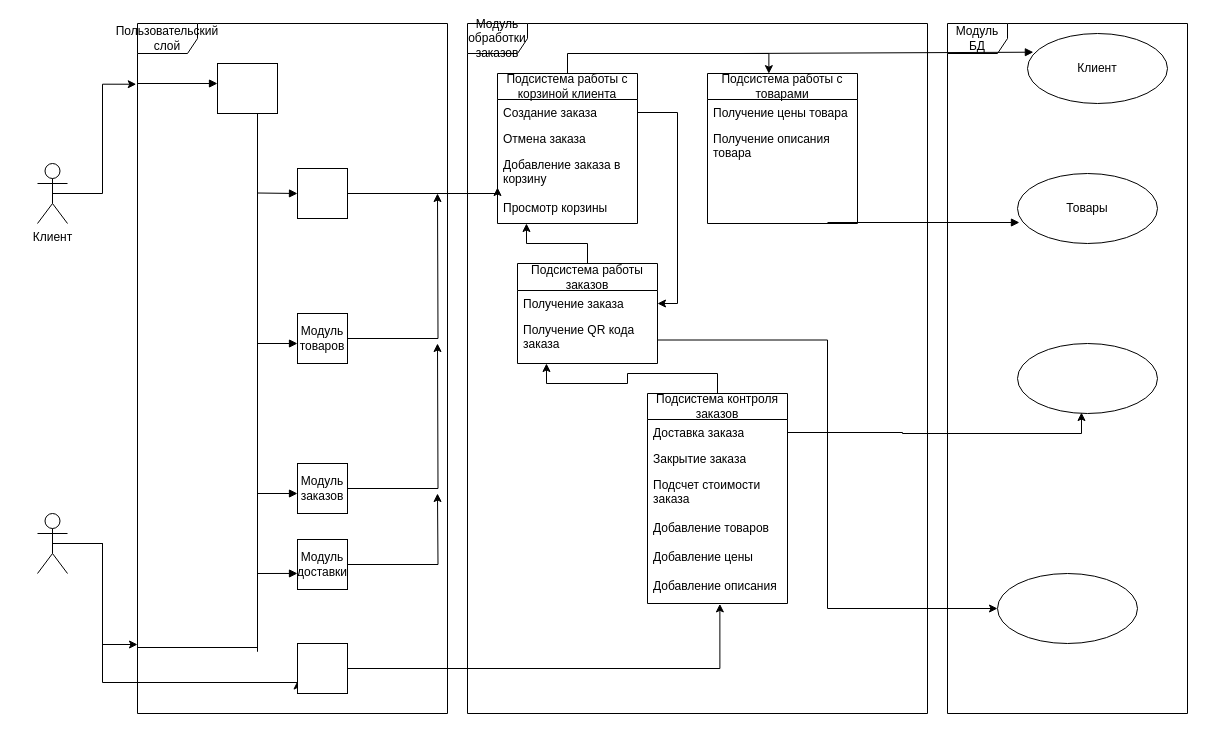
Some shapes in this 1205 by 731 pixel diagram are drawn without their labels. The shapes that lost their labels are listed below. From the top down, each one's centre as x and y in pixels, then its label:
[247,88]: Вход
[322,193]: Модуль корзины
[1087,378]: Администрирование заказов
[52,543]: Приложение
[1067,608]: Заказы
[322,668]: Модуль управления
